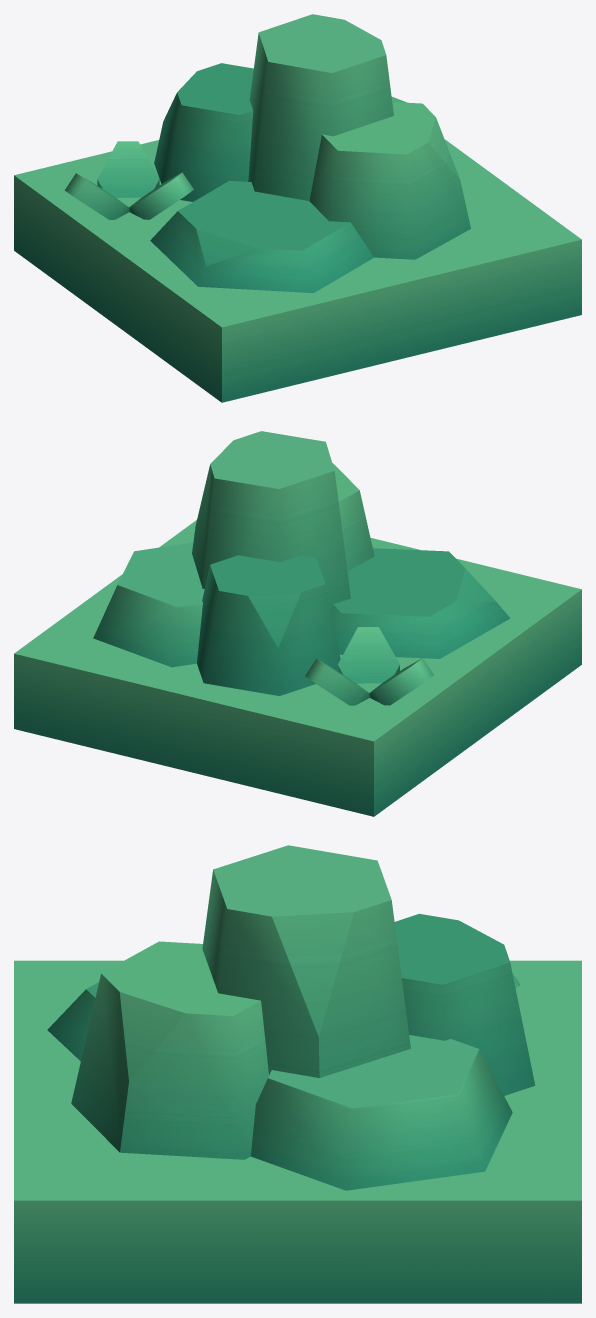
Rendered from kenney-tower-defense-tile-hill.glb.
The picture shows the model from 3 angles, top to bottom: view 1: azimuth 30°, elevation 25°; view 2: azimuth 150°, elevation 25°; view 3: azimuth 270°, elevation 25°; orthographic projection. The views are drawn at different scales.
Parts seen in each view (by area): view 1: tile-hill; view 2: tile-hill; view 3: tile-hill.
Boxes of the visible parts, <box> form: tile-hill: <box>14,14,581,402</box>; tile-hill: <box>14,431,581,816</box>; tile-hill: <box>14,845,581,1303</box>.
Bounding box in the file's own units: 1 × 0.6146 × 1.
1 material, 1 textured.
